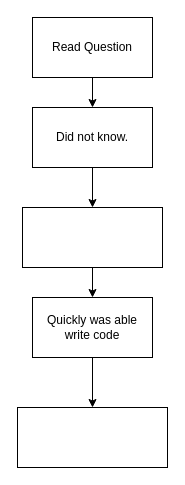
Image size: 185x485. Some labels were removed from this diagram. The shapes that lost their labels are listed below. From the top down, each one's box as (x1, y1, x2, y2) in pixels, then its label:
(22, 206, 162, 268): spend time reading it multiple times
(16, 406, 168, 468): Do not know if I did the question correctly
